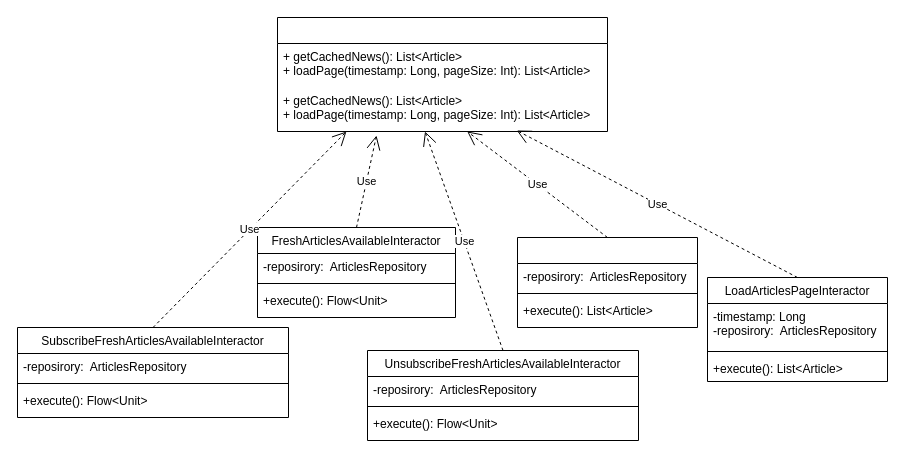
The diagram is 905 pixels wide and 458 high, and some of its shapes have lost their labels. The shapes that lost their labels are listed below. From the top down, each one's box as (x1, y1, x2, y2) in pixels, then its label:
(276, 16, 608, 132): ArticlesRepository
(516, 236, 698, 328): GetCachedArticlesInteractor
